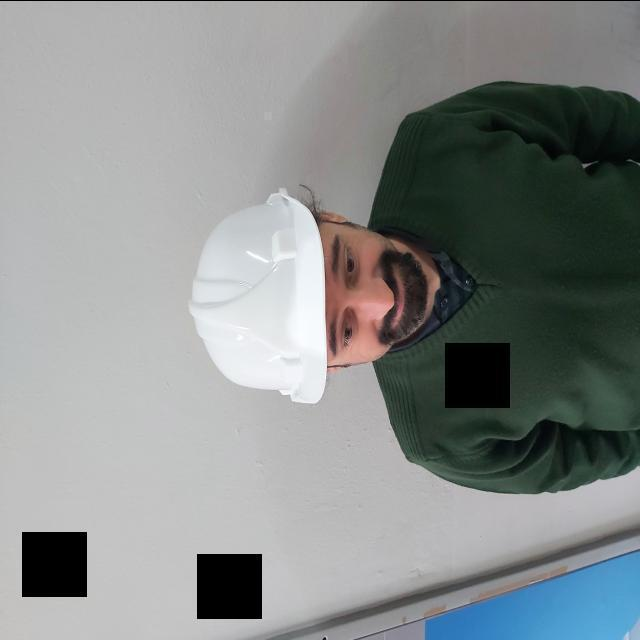white helmet: (184, 183, 333, 409)
